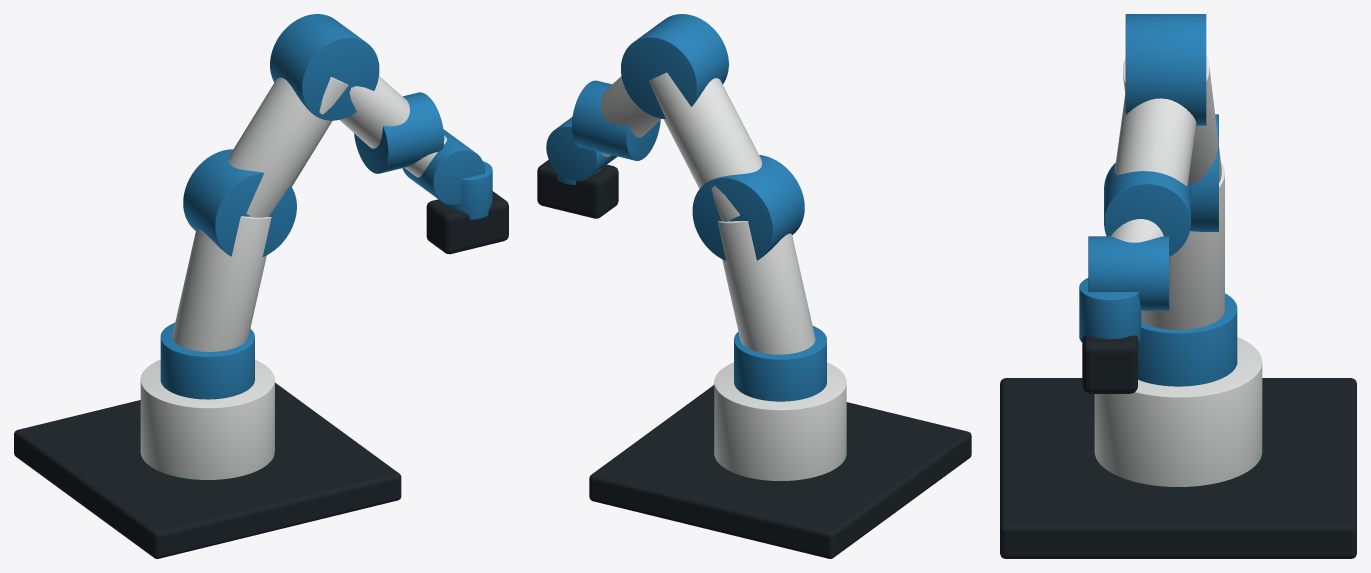
Rendered from six_axis_cobot.glb.
3 views of the same model, side by side, from view 1: azimuth 30°, elevation 25°; view 2: azimuth 150°, elevation 25°; view 3: azimuth 270°, elevation 25° (orthographic). The views are drawn at different scales.
Parts seen in each view (by area): view 1: BASE, COBOT_BASE, LOWER_ARM, UPPER_ARM, KIN_J3, KIN_J2, KIN_J1, KIN_J4, COBOT_GRIPPER, FOREARM, KIN_J5, KIN_J6; view 2: BASE, COBOT_BASE, LOWER_ARM, UPPER_ARM, KIN_J3, KIN_J2, KIN_J1, KIN_J4, COBOT_GRIPPER, KIN_J5, FOREARM; view 3: BASE, COBOT_BASE, KIN_J3, KIN_J1, LOWER_ARM, FOREARM, KIN_J4, KIN_J5, COBOT_GRIPPER, KIN_J6, UPPER_ARM, KIN_J2 (+1 smaller).
Part boxes in pixels (x1,y1,x2,y2): BASE: (14, 383, 401, 558); COBOT_BASE: (140, 359, 274, 479); LOWER_ARM: (172, 216, 271, 351); UPPER_ARM: (228, 77, 348, 217); KIN_J3: (270, 14, 379, 120); KIN_J2: (183, 149, 296, 256); KIN_J1: (160, 322, 254, 399); KIN_J4: (354, 92, 444, 173); COBOT_GRIPPER: (426, 191, 508, 254); FOREARM: (339, 76, 409, 148); KIN_J5: (402, 129, 484, 204); KIN_J6: (443, 161, 492, 219); BASE: (589, 385, 971, 558); COBOT_BASE: (714, 362, 846, 480); LOWER_ARM: (717, 221, 815, 354); UPPER_ARM: (649, 72, 762, 221); KIN_J3: (621, 14, 728, 118); KIN_J2: (692, 155, 804, 260); KIN_J1: (734, 326, 826, 401); KIN_J4: (571, 80, 660, 160); COBOT_GRIPPER: (537, 159, 618, 218); KIN_J5: (546, 117, 617, 180); FOREARM: (600, 76, 661, 137); BASE: (1000, 378, 1356, 558); COBOT_BASE: (1094, 337, 1262, 486); KIN_J3: (1125, 14, 1206, 125); KIN_J1: (1138, 293, 1237, 386); LOWER_ARM: (1141, 162, 1224, 329); FOREARM: (1114, 92, 1196, 185); KIN_J4: (1104, 162, 1190, 256); KIN_J5: (1088, 236, 1169, 310); COBOT_GRIPPER: (1082, 335, 1137, 393); KIN_J6: (1079, 278, 1141, 342); UPPER_ARM: (1123, 55, 1221, 186); KIN_J2: (1190, 114, 1218, 231).
Size of the model in its own units: 1.81 by 1.9 by 1.15.
